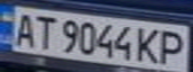0: (75, 19, 96, 56)
4: (93, 21, 118, 59), (112, 22, 136, 61)
9: (54, 17, 81, 54)
A: (9, 10, 39, 47)
K: (133, 25, 163, 64)
P: (157, 27, 190, 66)
T: (30, 12, 57, 51)
